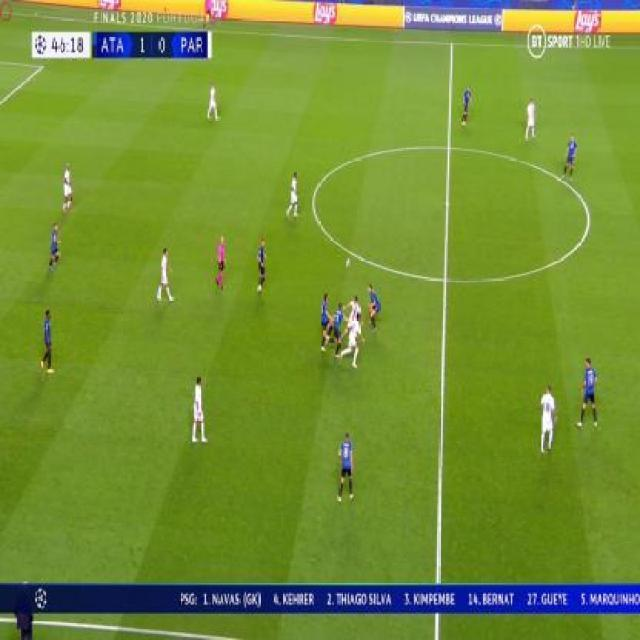ball: (345, 257, 351, 268)
player: (577, 353, 599, 432), (342, 295, 364, 368), (538, 380, 557, 456), (336, 429, 355, 503), (191, 372, 208, 446), (156, 244, 175, 304), (38, 307, 54, 375), (318, 289, 334, 351), (329, 299, 345, 356), (47, 220, 63, 274), (256, 234, 270, 294), (562, 131, 579, 180), (365, 282, 381, 333), (285, 169, 301, 220), (61, 158, 75, 214), (215, 232, 228, 291), (459, 84, 473, 127), (525, 95, 538, 141), (206, 79, 220, 121)
